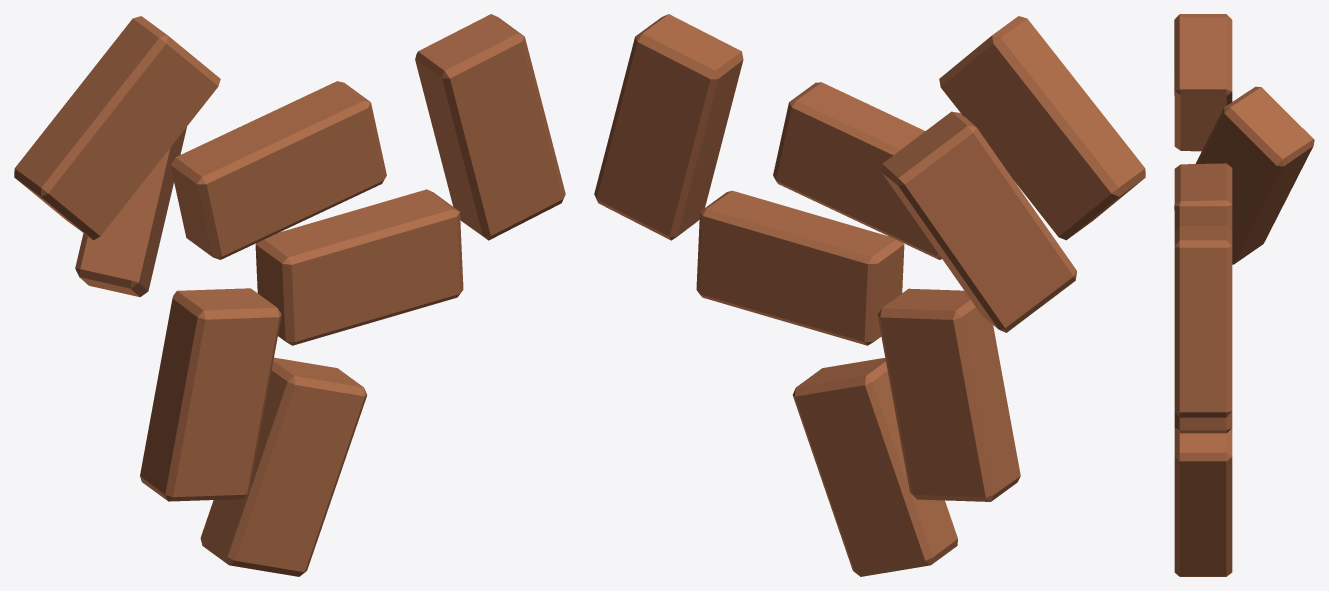
The model's file is Brick_Pile.fbx.
The picture shows the model from 3 angles, left to right: view 1: azimuth 30°, elevation 25°; view 2: azimuth 150°, elevation 25°; view 3: azimuth 270°, elevation 25°; orthographic projection. The views are drawn at different scales.
Parts seen in each view (by area): view 1: Brick_Pile; view 2: Brick_Pile; view 3: Brick_Pile.
Boxes of the visible parts, x1,y1,x2,y2 form: Brick_Pile: (14, 14, 565, 576); Brick_Pile: (594, 14, 1145, 576); Brick_Pile: (1174, 14, 1314, 576).
Size of the model in its own units: 0.6276 by 0.6552 by 0.1655.
